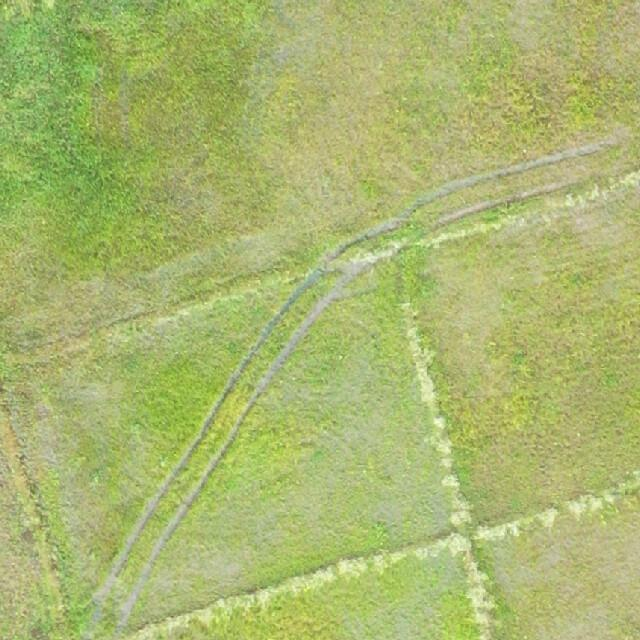tobacco: (0, 165, 640, 640), (0, 388, 79, 640)
